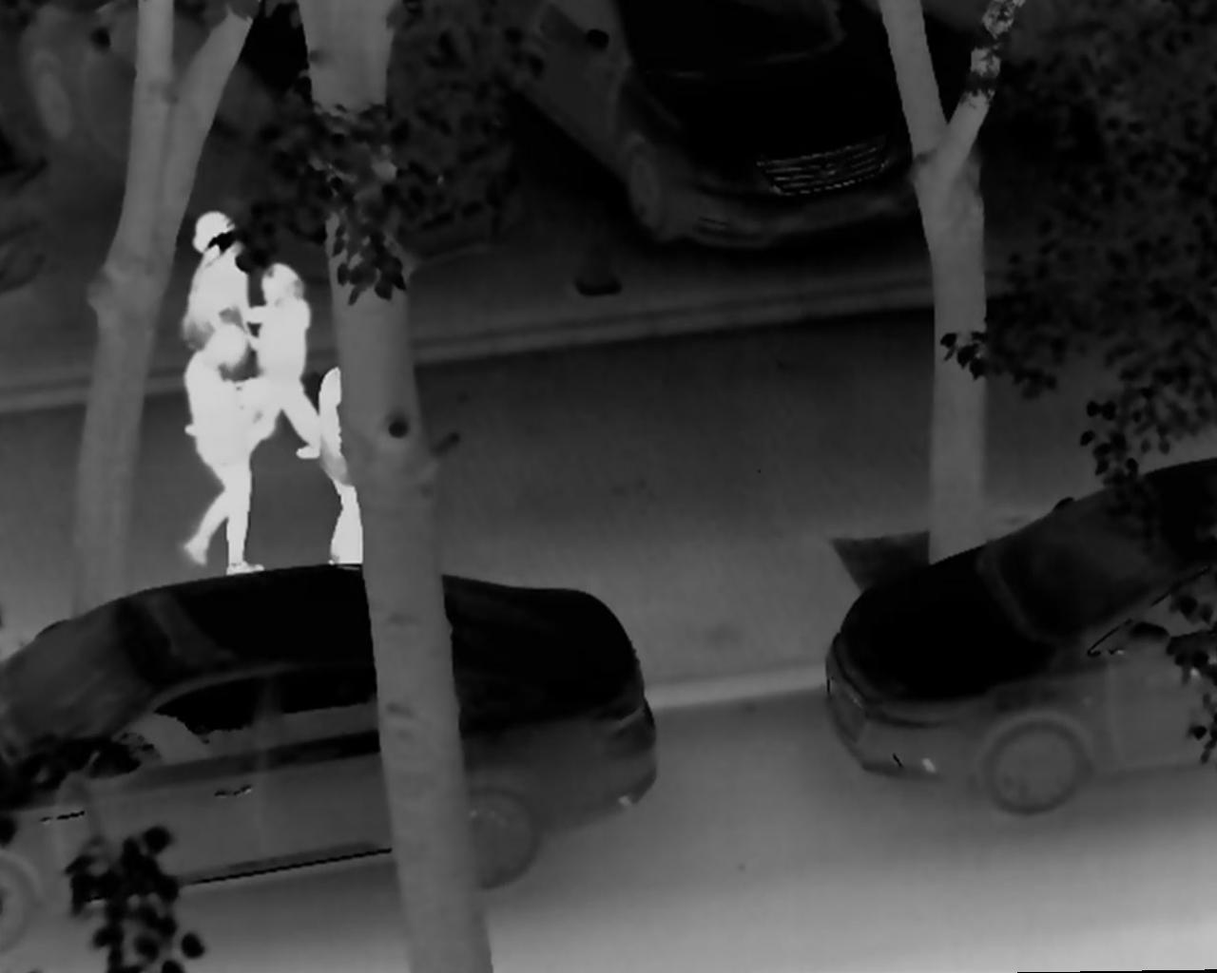person: (180, 326, 263, 579), (175, 209, 264, 439), (241, 256, 330, 464), (310, 345, 370, 568)
